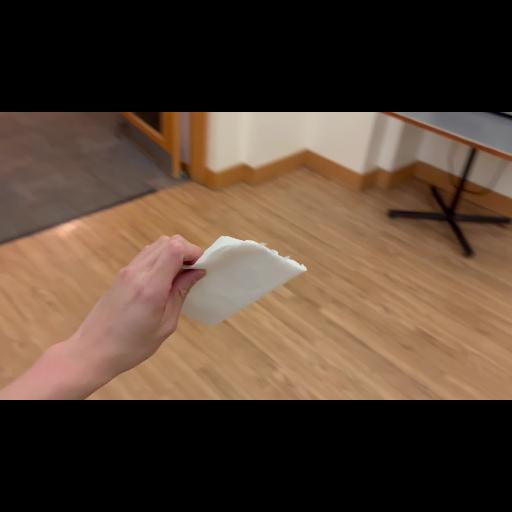napkin: (166, 206, 312, 348)
